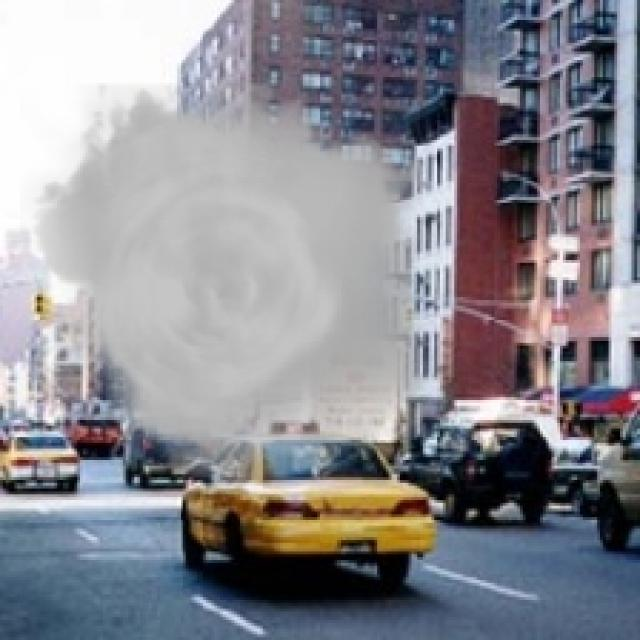smoke: (20, 83, 446, 486)
